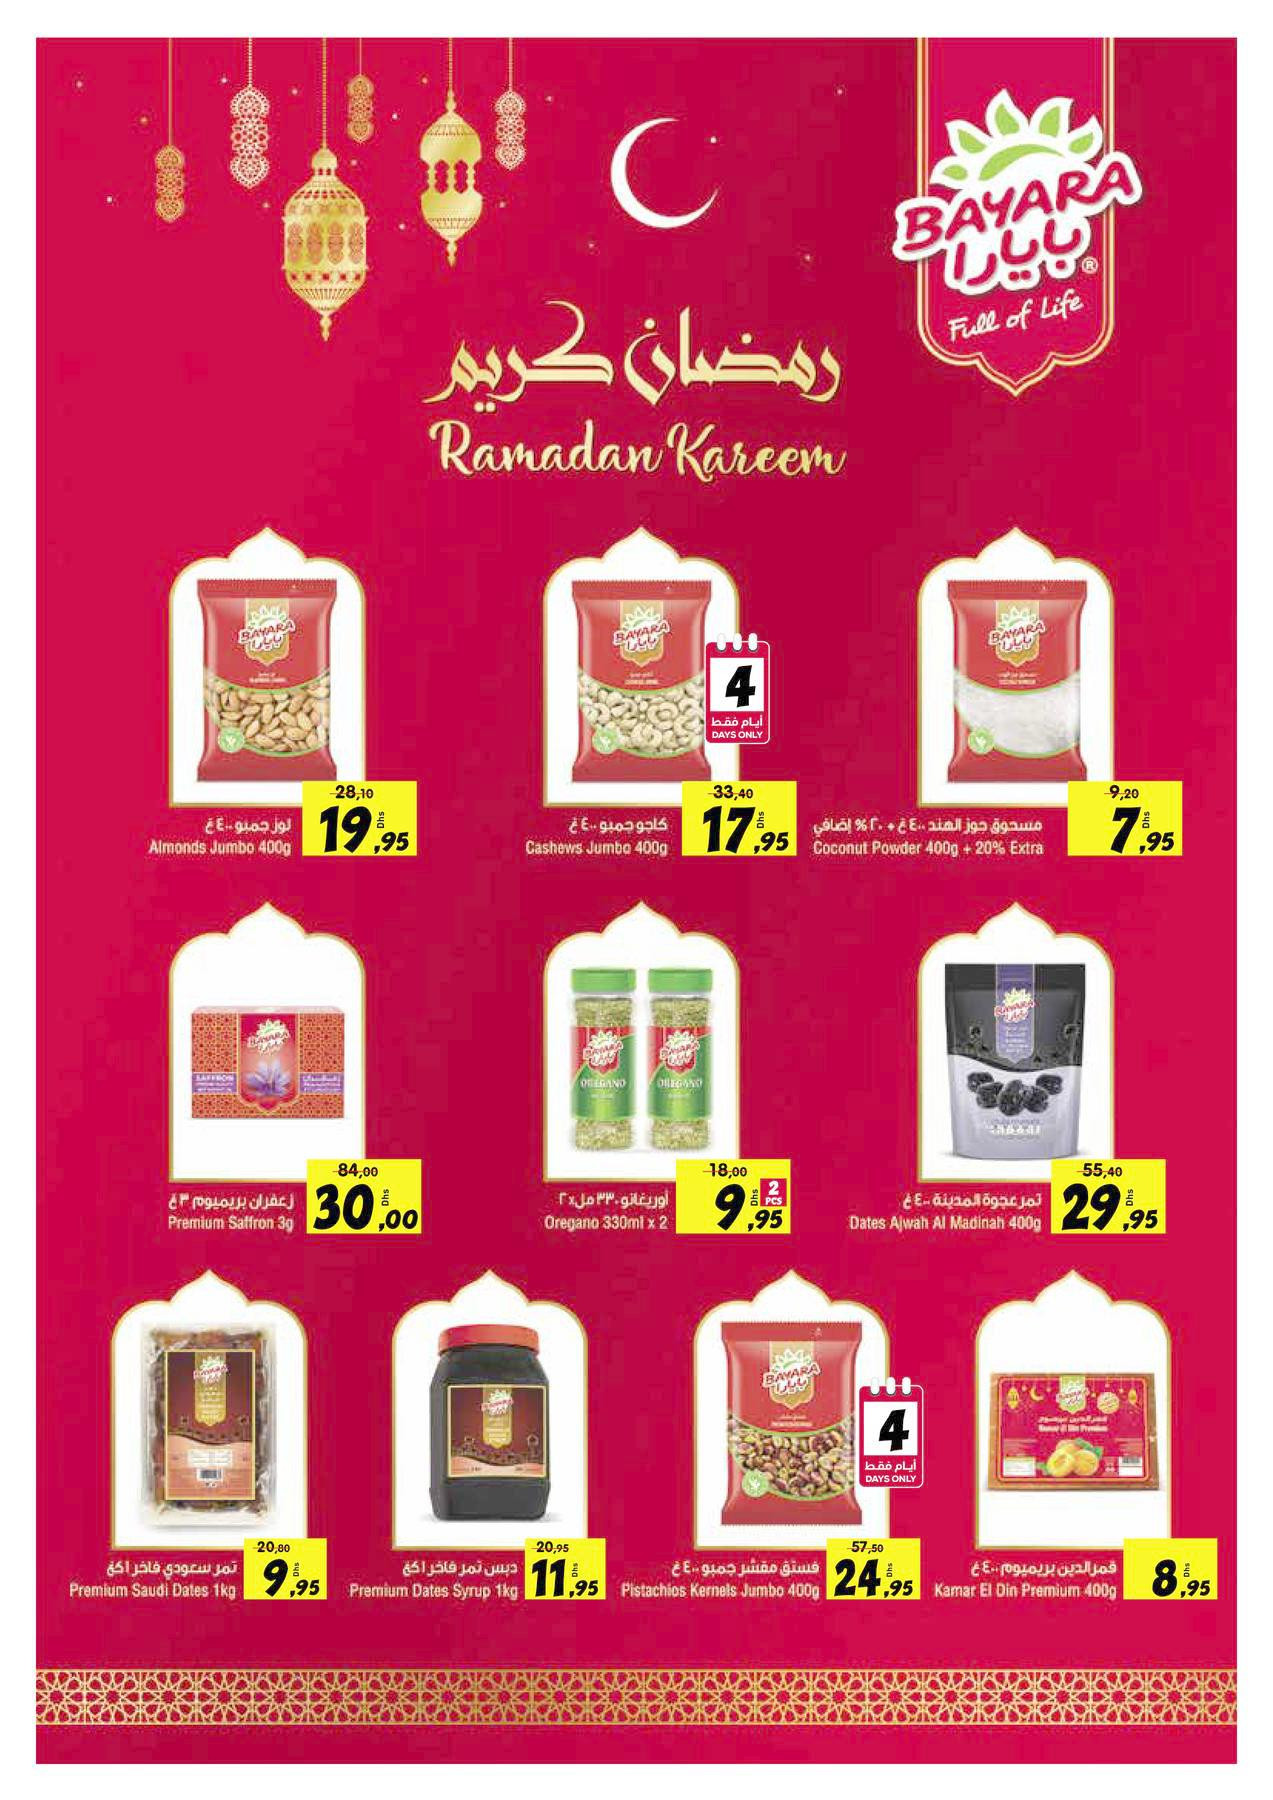text: (809, 808, 1050, 865), (927, 1551, 1123, 1610), (619, 1553, 825, 1606), (846, 1187, 1048, 1239), (59, 1556, 242, 1607), (342, 1553, 524, 1604), (517, 808, 678, 864), (145, 810, 300, 866), (536, 1184, 674, 1235), (163, 1187, 300, 1238)
